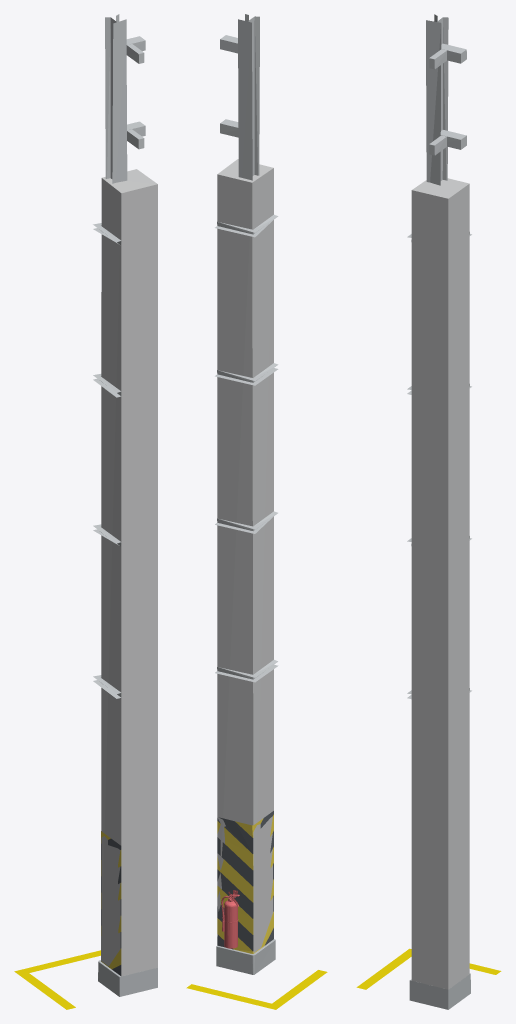
The model's file is galpao-pilar.glb.
3 views of the same model, side by side, from view 1: azimuth 30°, elevation 25°; view 2: azimuth 150°, elevation 25°; view 3: azimuth 330°, elevation 25° (orthographic). The views are drawn at different scales.
Visible parts, largest first — view 1: #e6e9eb, #a3abb1, #8f979d, #e8b800, #f0bf14; view 2: #e6e9eb, #a3abb1, #1f2328, #f0bf14, #8f979d, #e8b800, #c8262b; view 3: #e6e9eb, #a3abb1, #8f979d, #e8b800.
Part boxes in pixels (x1,y1,x2,y2): #e6e9eb: (101,169,157,976); #a3abb1: (93,14,145,698); #8f979d: (98,960,157,996); #e8b800: (14,950,100,1009); #f0bf14: (101,831,121,969); #e6e9eb: (217,159,273,952); #a3abb1: (215,14,278,682); #1f2328: (217,811,273,950); #f0bf14: (217,814,273,953); #8f979d: (216,939,275,974); #e8b800: (186,970,327,1009); #c8262b: (221,890,239,948); #e6e9eb: (411,178,469,989); #a3abb1: (407,14,471,699); #8f979d: (409,973,470,1009); #e8b800: (356,948,501,989).
Bounding box in the file's own units: 0.9504 × 9.6 × 0.9501.
